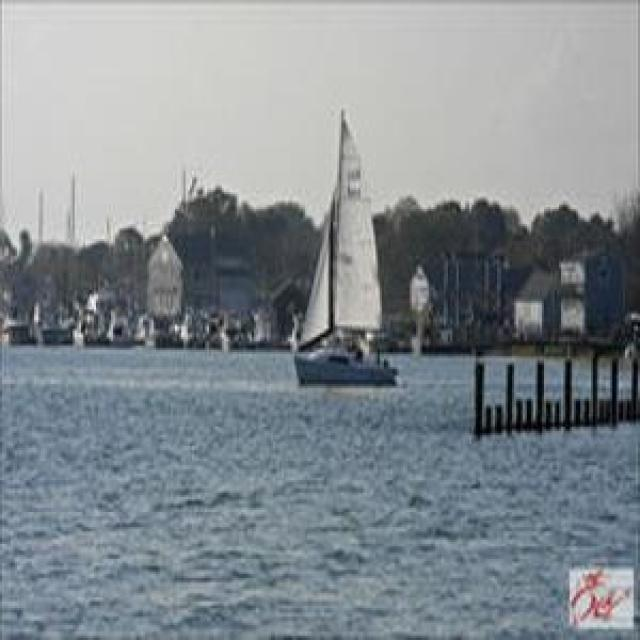navalvessels: (276, 118, 408, 397)
